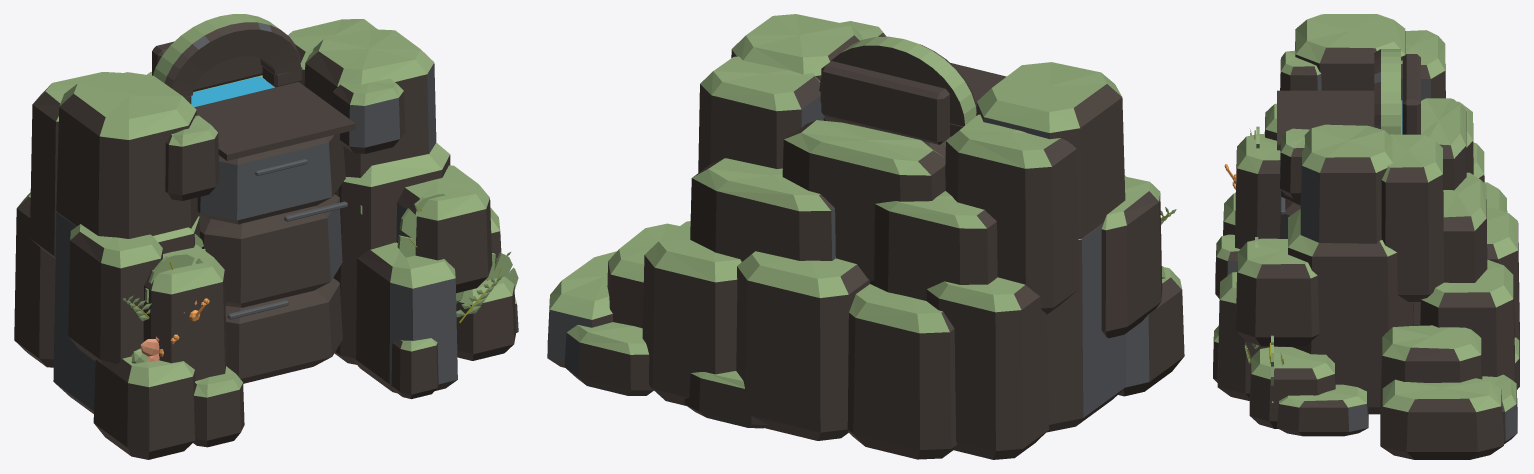
File: waterfallCliff.glb
3 views of the same model, side by side, from view 1: azimuth 30°, elevation 25°; view 2: azimuth 150°, elevation 25°; view 3: azimuth 270°, elevation 25° (orthographic). The views are drawn at different scales.
Visible parts, largest first — view 1: waterfallCliff; view 2: waterfallCliff; view 3: waterfallCliff.
Boxes of the visible parts, bbox=[...] form: waterfallCliff: bbox=[14, 14, 518, 459]; waterfallCliff: bbox=[547, 14, 1184, 459]; waterfallCliff: bbox=[1213, 14, 1519, 459].
Size of the model in its own units: 10.3 by 6.9 by 6.7.
Materials: 1 (1 with a texture image).
